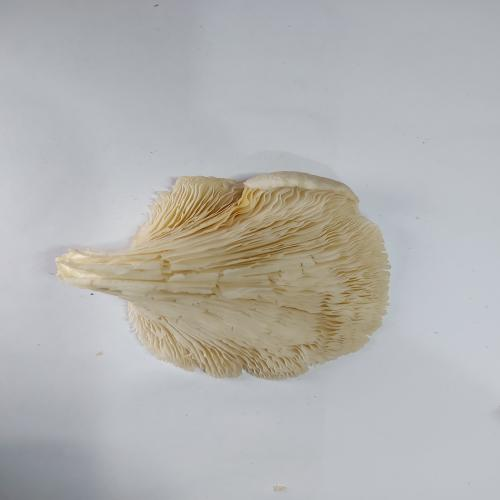Oyster Mushroom: (54, 170, 392, 381)
